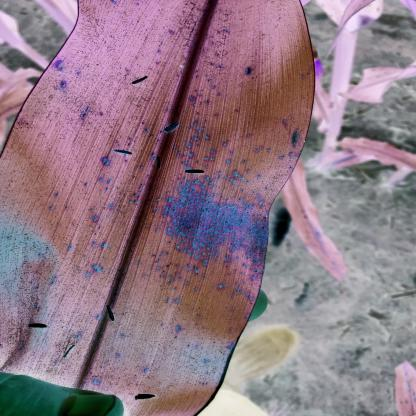corn rust leaf: (3, 76, 416, 312)
